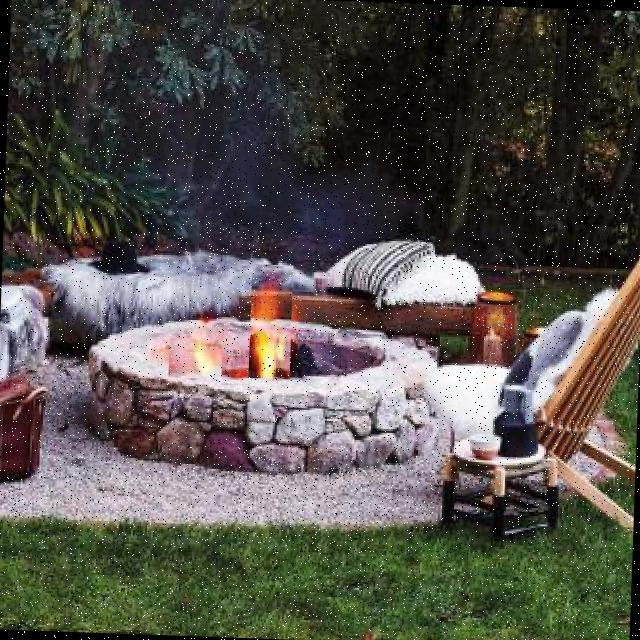fire: (248, 264, 293, 379), (168, 338, 222, 378)
